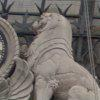Statue: (16, 8, 100, 100)
